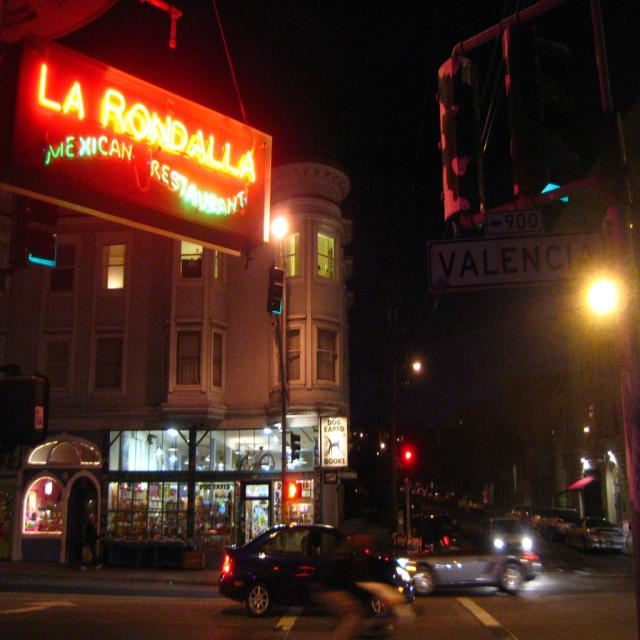car: (206, 526, 400, 621), (400, 528, 546, 594), (470, 502, 534, 553)
